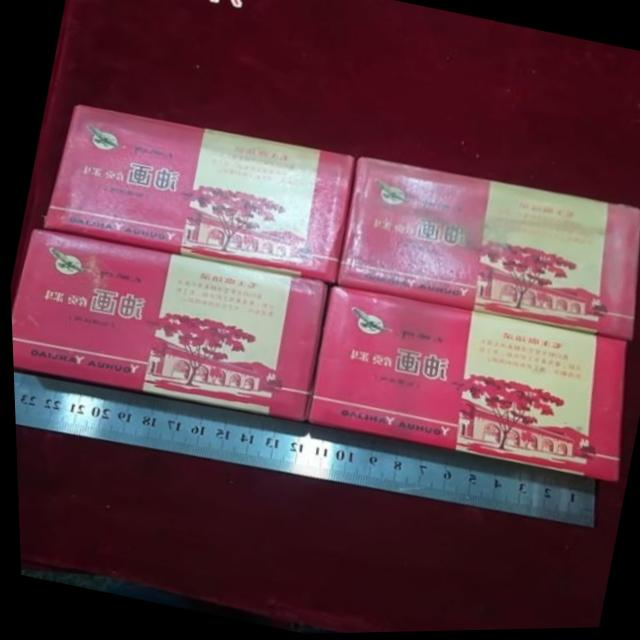box: (304, 286, 624, 485), (9, 230, 322, 422), (40, 105, 353, 288), (337, 158, 640, 344)
